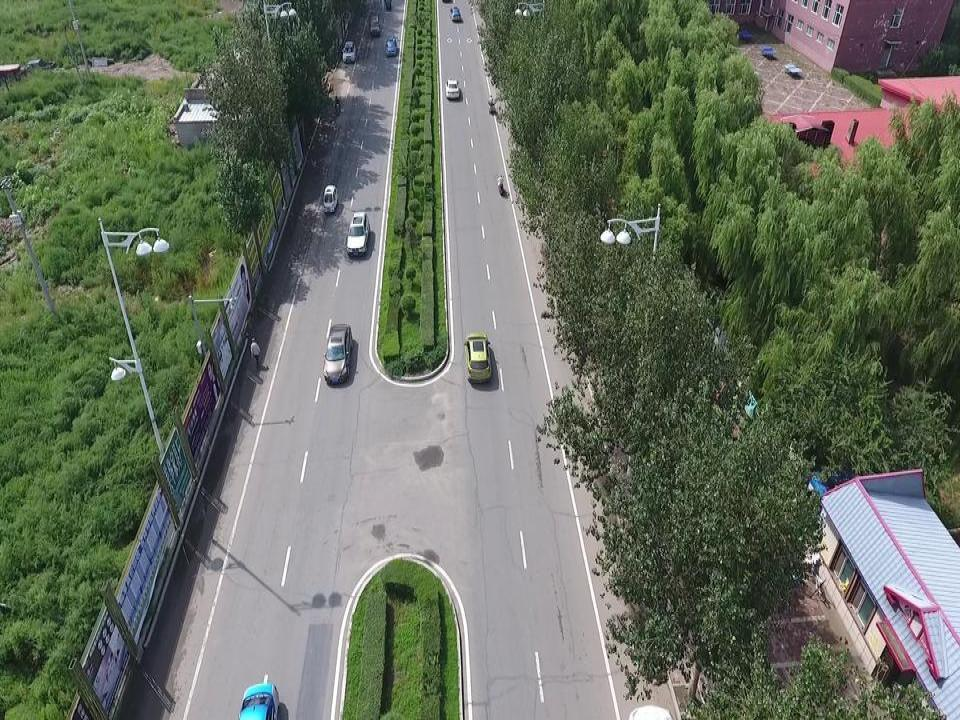car: (323, 323, 353, 384), (237, 681, 279, 720), (463, 332, 492, 381), (346, 212, 370, 256), (341, 40, 356, 63), (444, 79, 460, 100), (385, 37, 397, 56), (449, 7, 461, 22)
